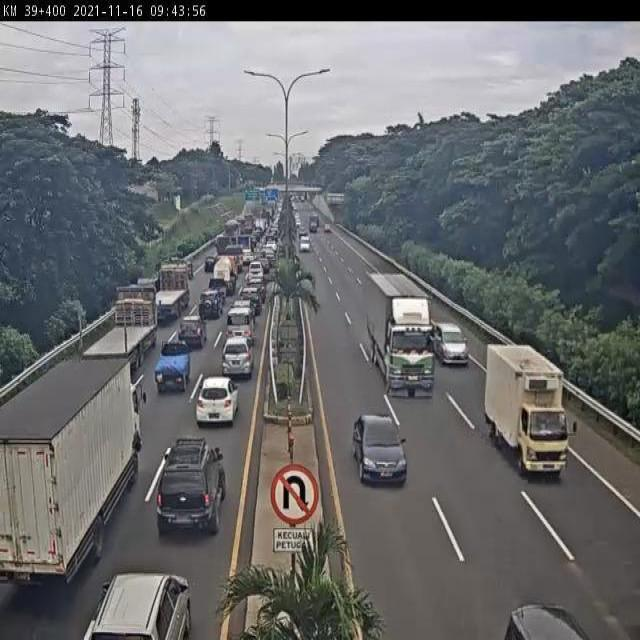car: (154, 442, 229, 546), (352, 412, 408, 488), (195, 376, 241, 429), (155, 341, 194, 395), (434, 321, 471, 367), (222, 337, 255, 383), (228, 307, 257, 347), (177, 319, 205, 352), (199, 291, 222, 321)
truck: (1, 360, 147, 587), (487, 343, 581, 481), (364, 273, 440, 400), (80, 284, 159, 373), (147, 264, 193, 324)
